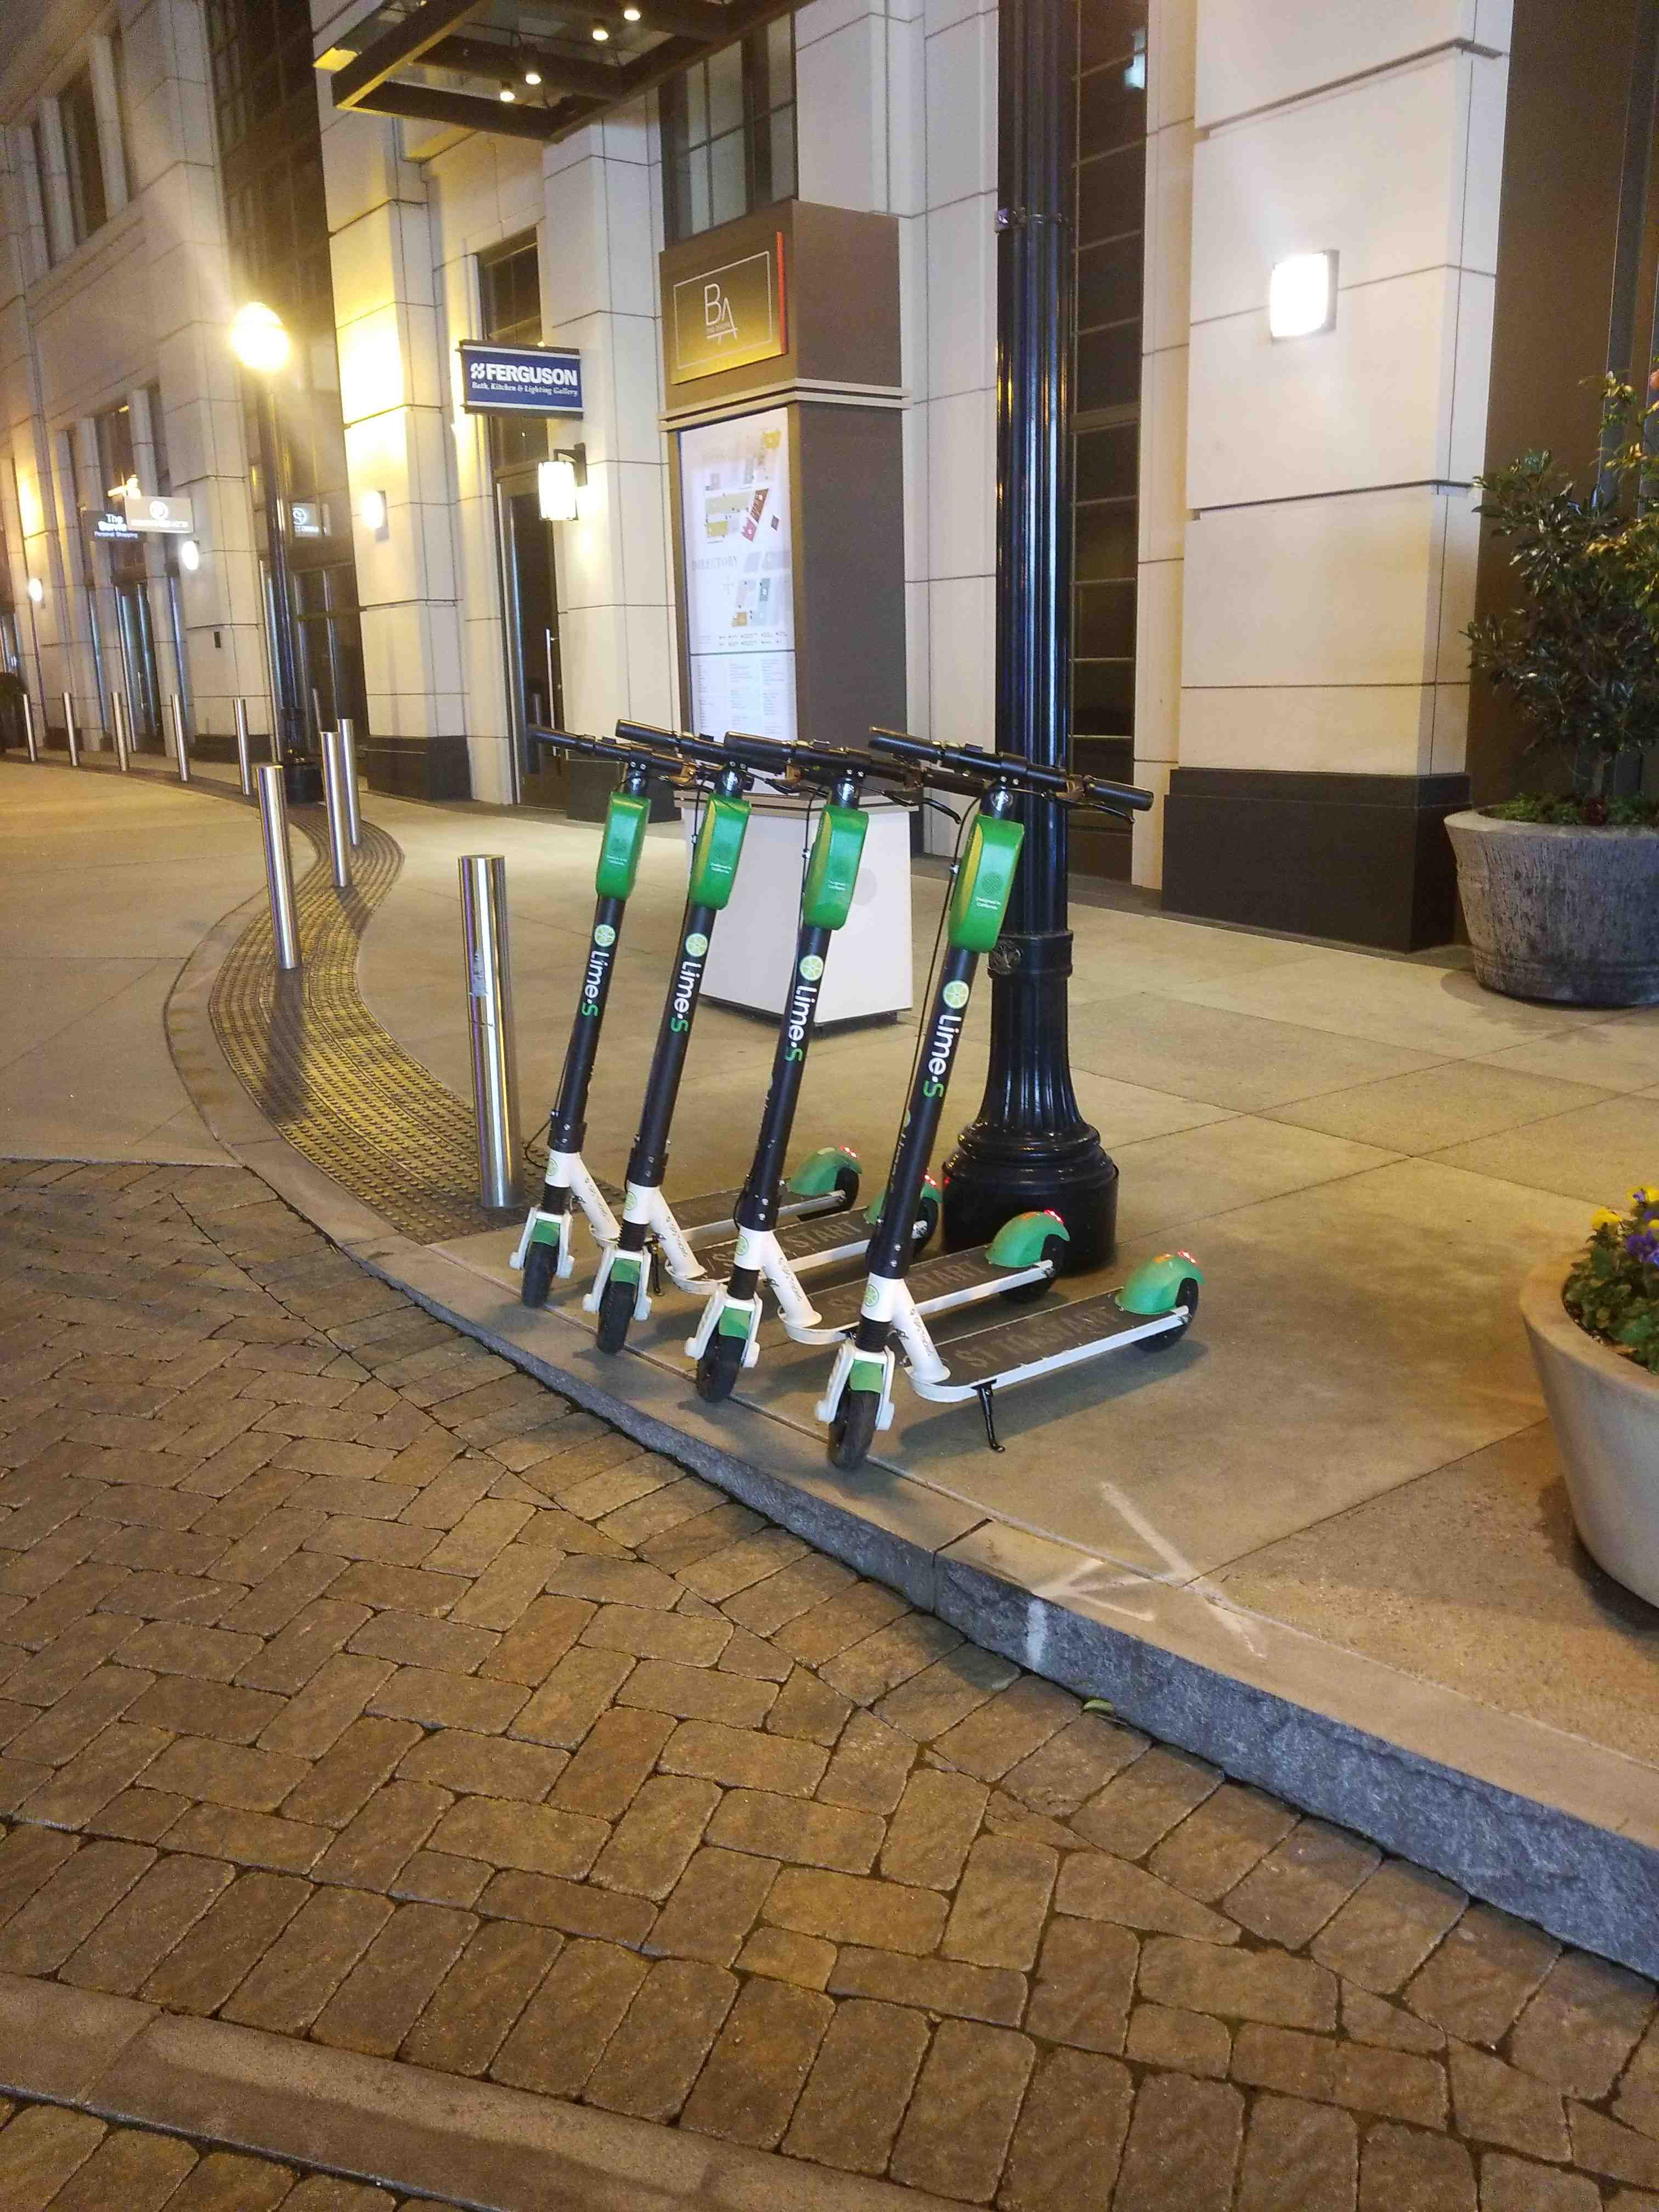too close: (782, 1341, 936, 1568), (664, 1266, 798, 1496), (573, 1230, 687, 1461), (453, 1200, 594, 1383)
